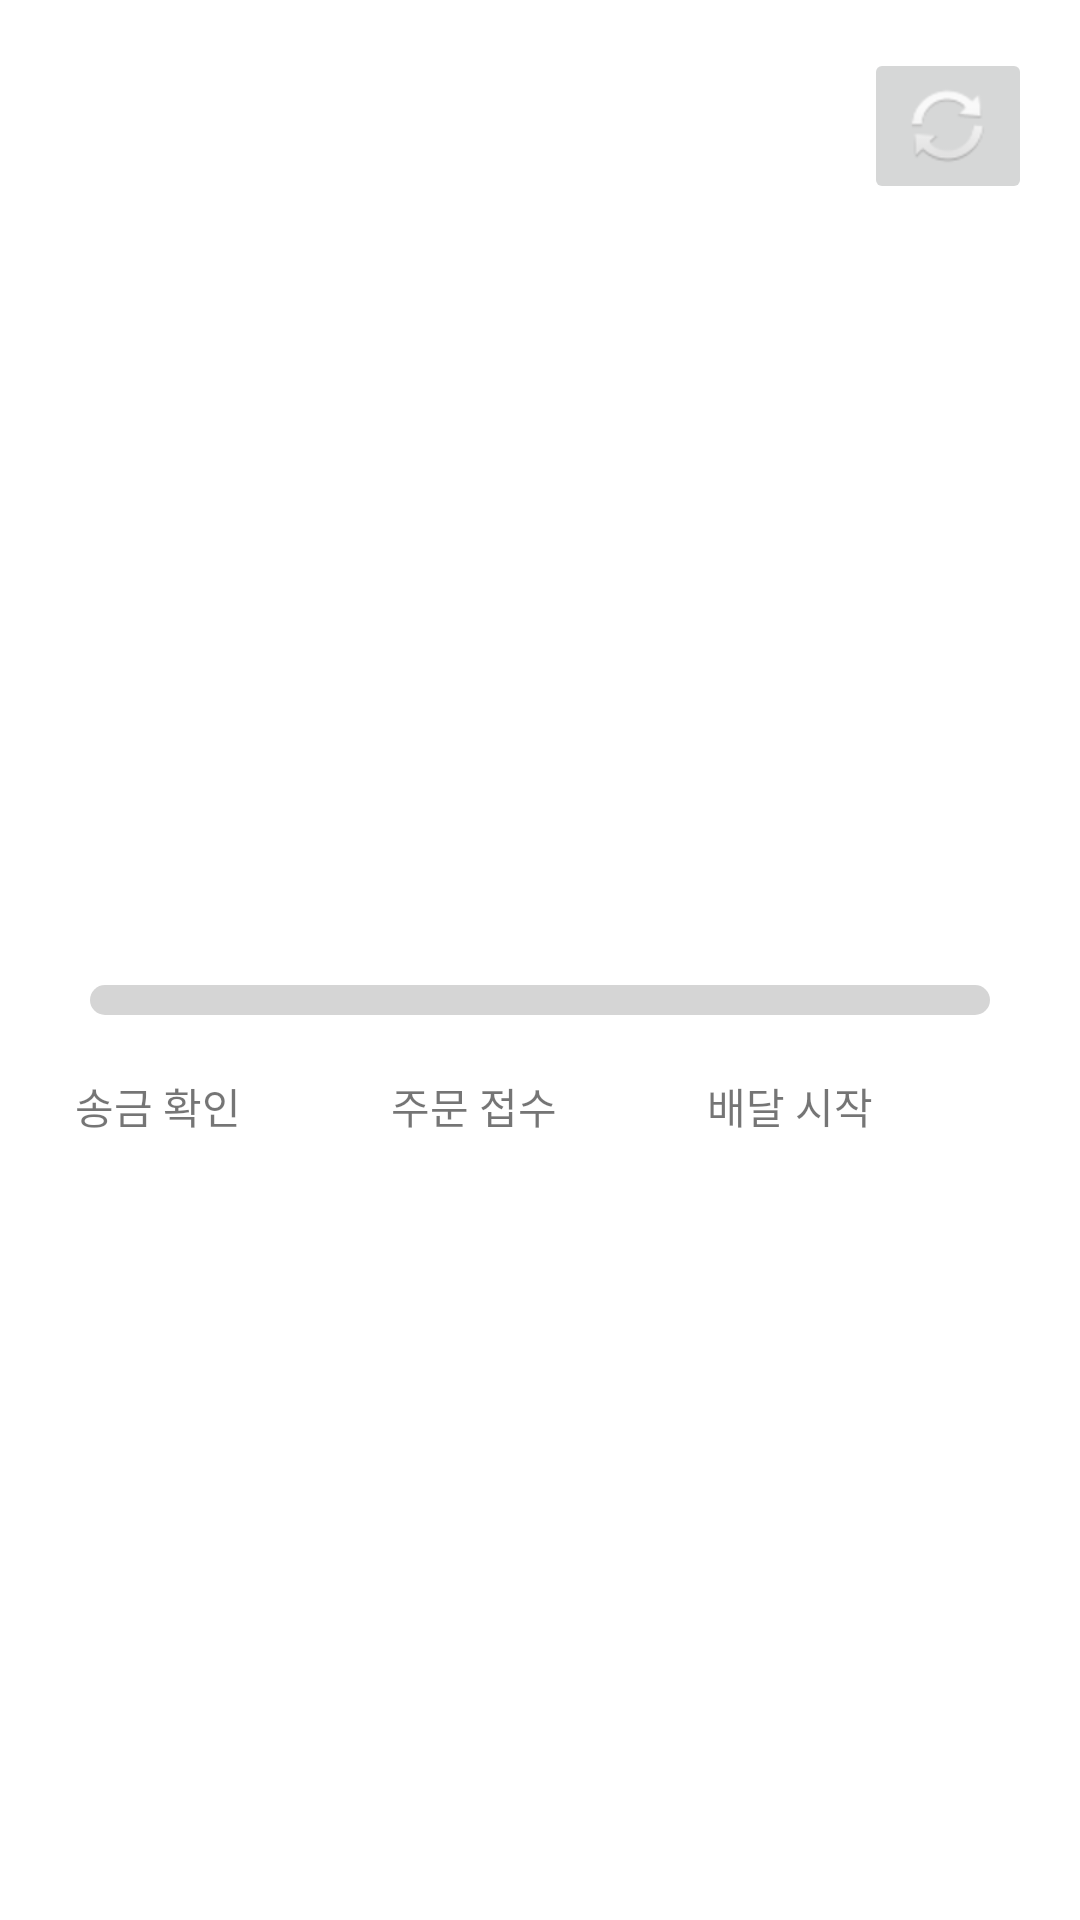

Named icons in this screenshot (1080 × 1920) and their centers, (x,y):
popup sync: (948,126)
